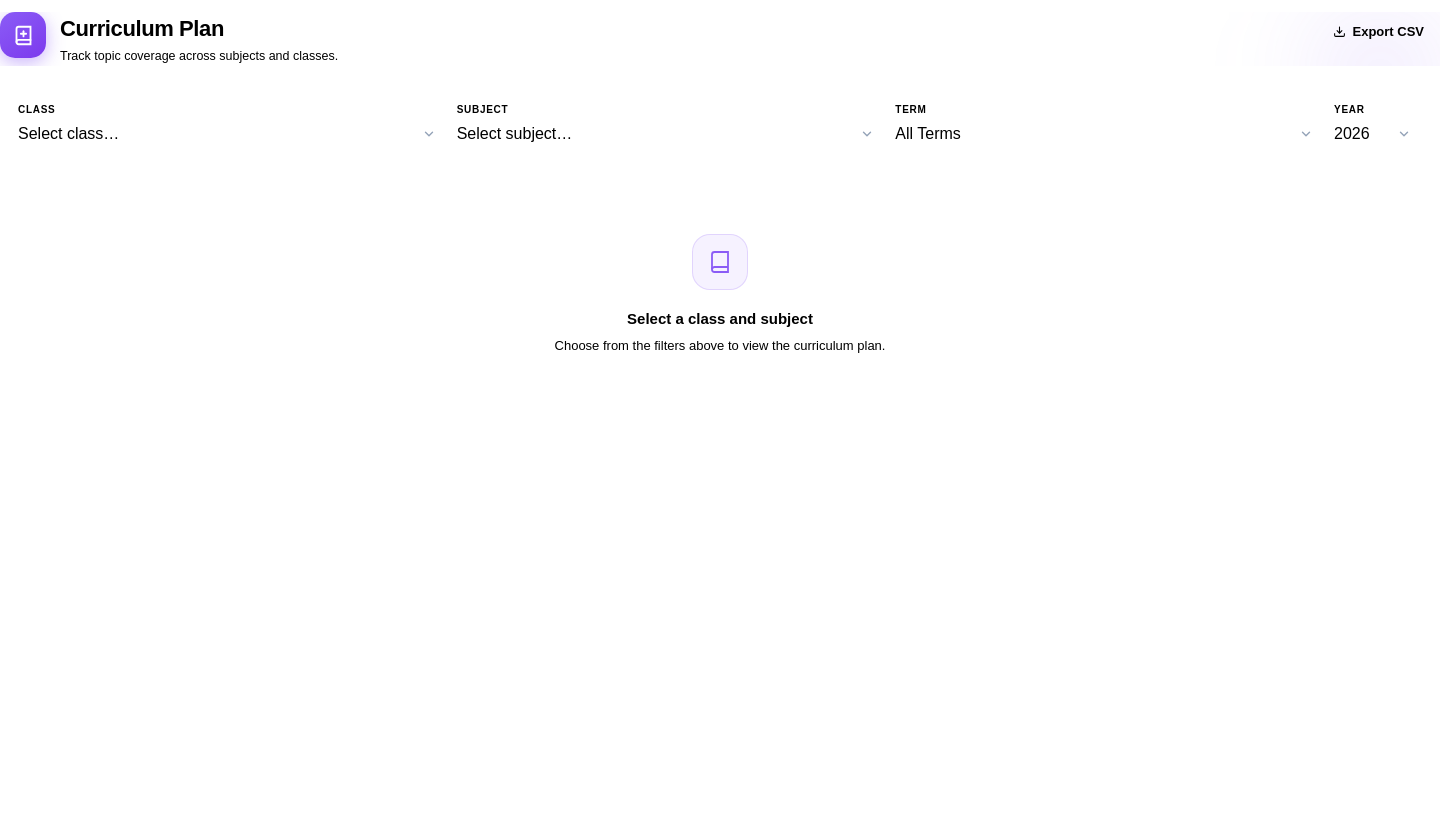
Test case: DosCurriculumPage — read-only for DoS › never renders a Mark Covered action, even for an uncovered topic
Select "S.1" in the 1st dropdown at (232, 134), box x1=18 y1=122 x2=447 y2=146
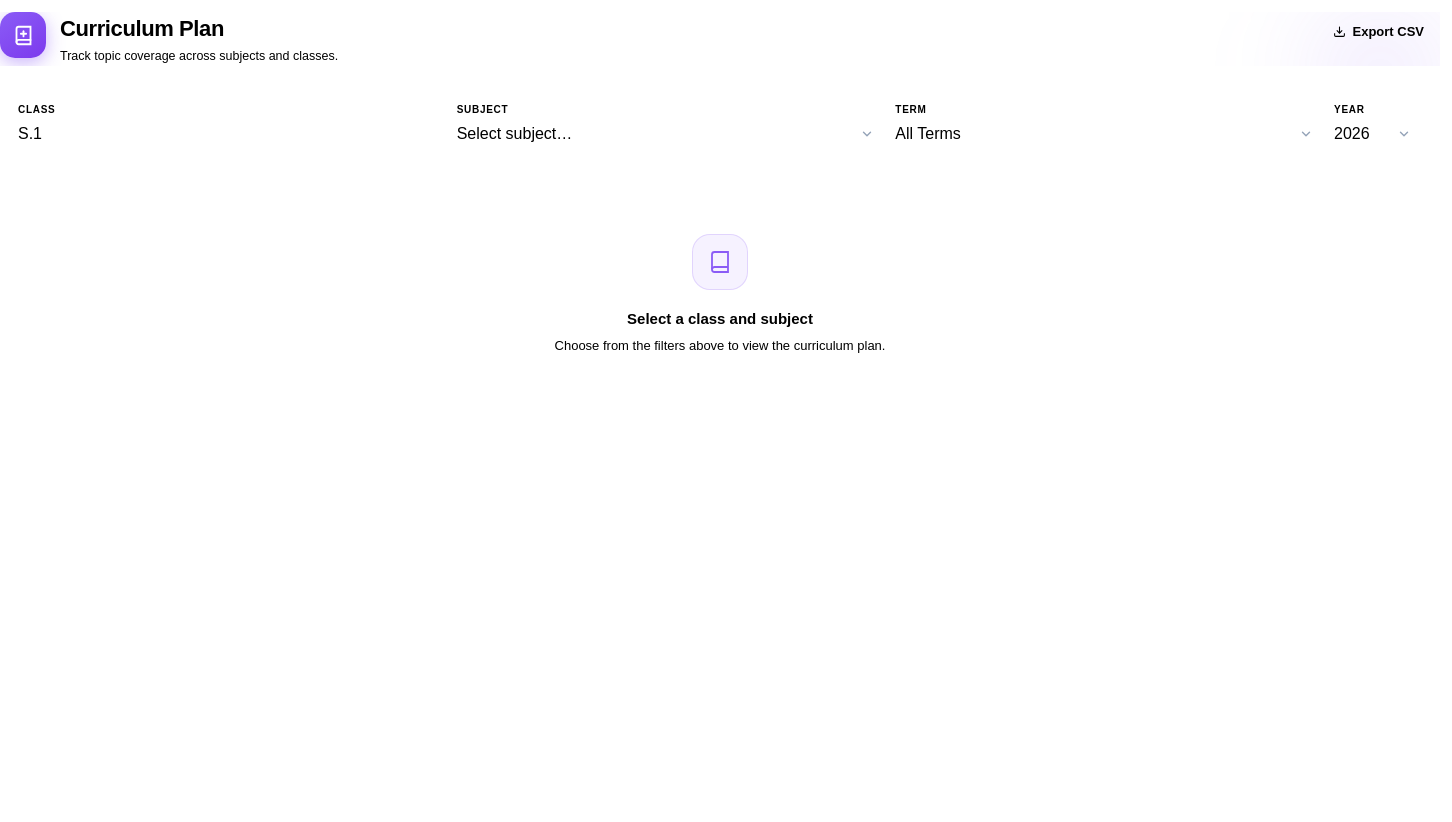
Select "Math" in the 2nd dropdown at (671, 134), box x1=457 y1=122 x2=885 y2=146
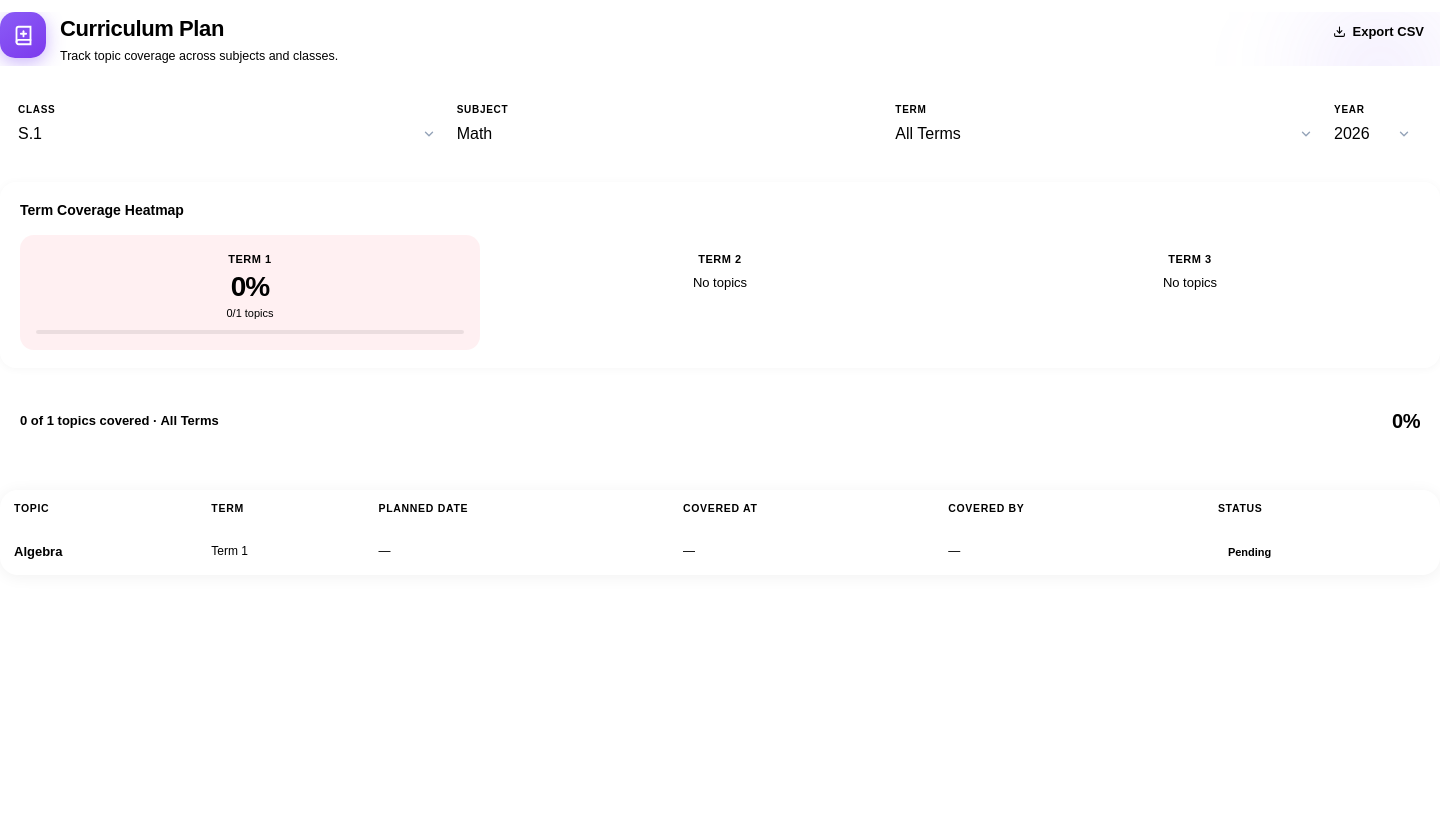
Result: the text "Algebra" is shown at x1=0 y1=528 x2=197 y2=575
Result: the text "Pending" is shown at x1=1228 y1=546 x2=1271 y2=558
